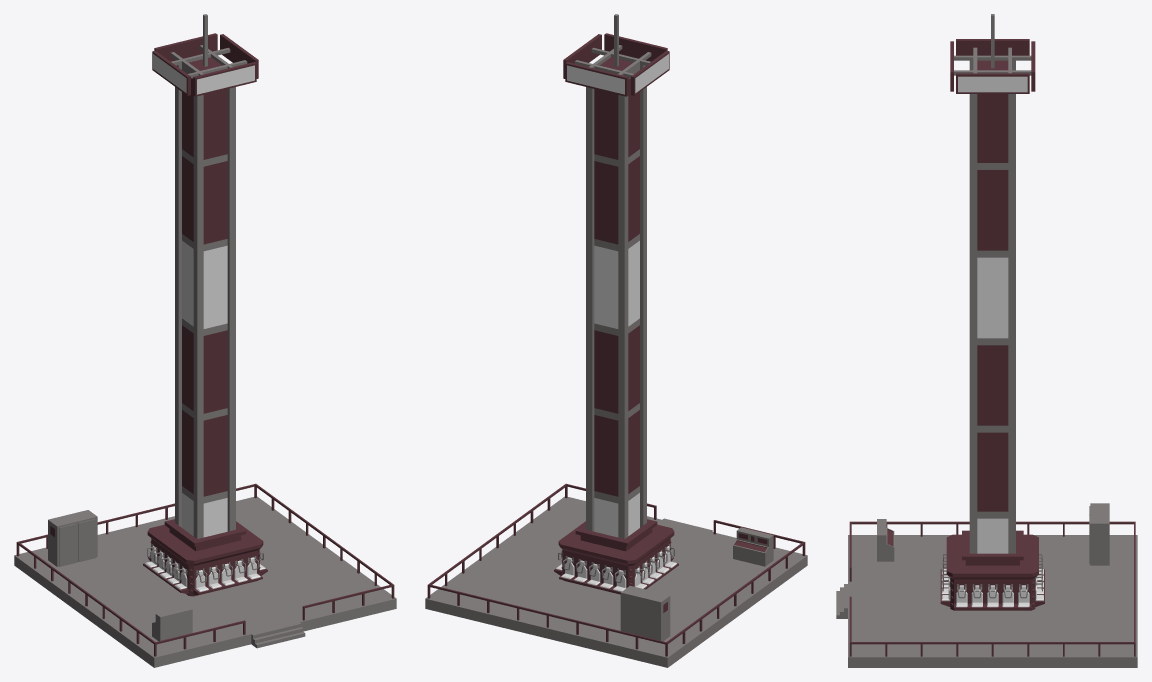
File: amusement-park-free-fall-ride.glb
3 renders of one model, left to right at view 1: azimuth 30°, elevation 25°; view 2: azimuth 150°, elevation 25°; view 3: azimuth 270°, elevation 25°, orthographic. The views are drawn at different scales.
Visible parts, largest first — view 1: free-fall-rides, free-fall-seats; view 2: free-fall-rides, free-fall-seats; view 3: free-fall-rides, free-fall-seats.
Boxes of the visible parts, x1,y1,x2,y2 form: free-fall-rides: (14,14,396,667); free-fall-seats: (143,519,267,596); free-fall-rides: (425,14,807,667); free-fall-seats: (554,519,678,594); free-fall-rides: (836,14,1137,667); free-fall-seats: (940,530,1044,610).
Size of the model in its own units: 15 by 33.8 by 15.6.
